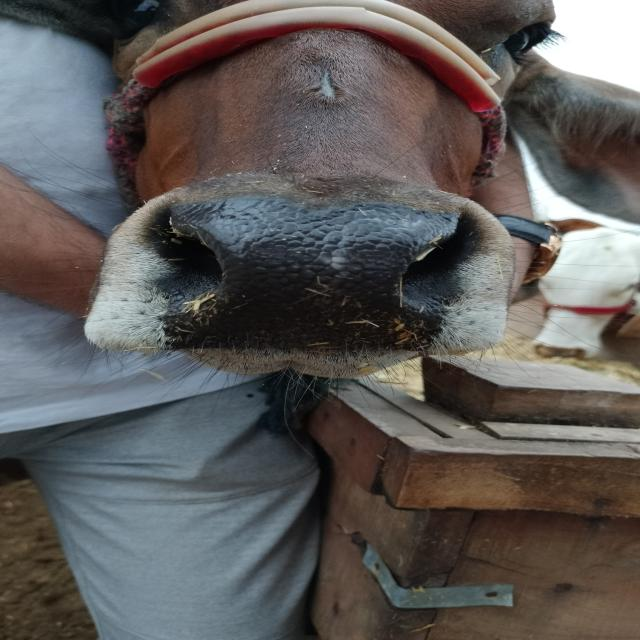muzzles: (127, 182, 511, 363)
